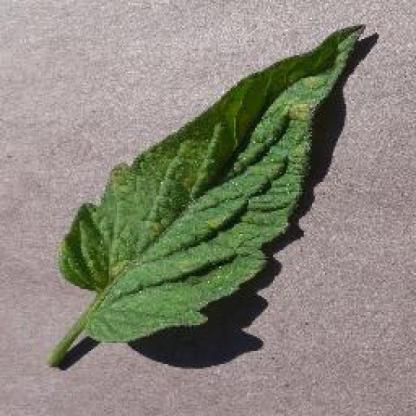Tomato_Leaf_Mold: (61, 23, 364, 301)
